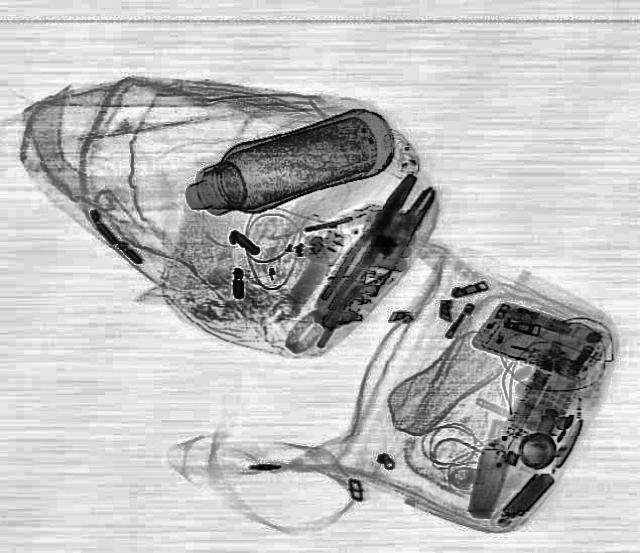Pliers: (324, 177, 444, 319)
